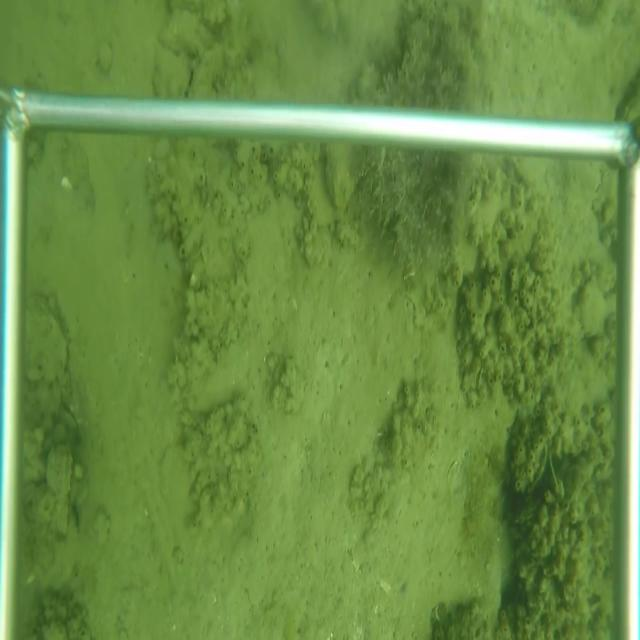Oyster-Indeterminate: (26, 291, 71, 382), (325, 144, 362, 217)
Oyster-Open: (517, 438, 550, 498), (59, 401, 83, 434), (70, 499, 84, 541)
